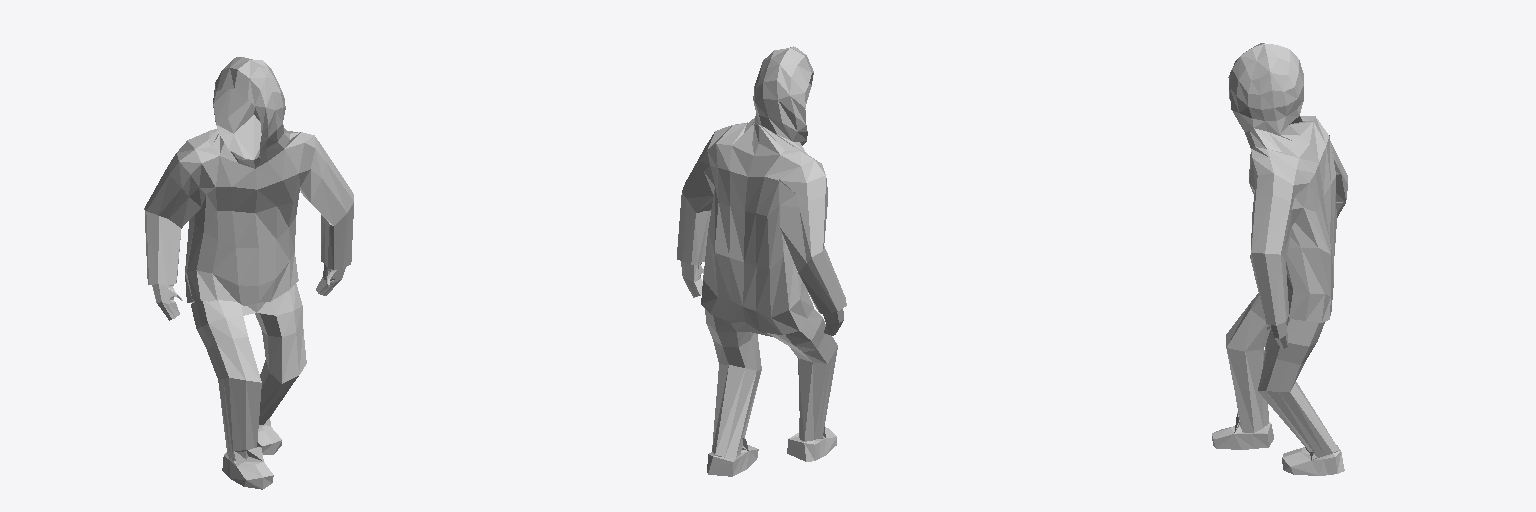
File: Shadowmanv_000019.obj
3 views of the same model, side by side, from view 1: azimuth 30°, elevation 25°; view 2: azimuth 150°, elevation 25°; view 3: azimuth 270°, elevation 25° (orthographic).
Visible parts, largest first — view 1: Cube.000; view 2: Cube.000; view 3: Cube.000.
Boxes of the visible parts, box(x1,y1,x2,y2) form: Cube.000: box(144, 57, 353, 489); Cube.000: box(677, 46, 846, 476); Cube.000: box(1212, 43, 1347, 475).
Size of the model in its own units: 5.34 by 11.3 by 3.39.